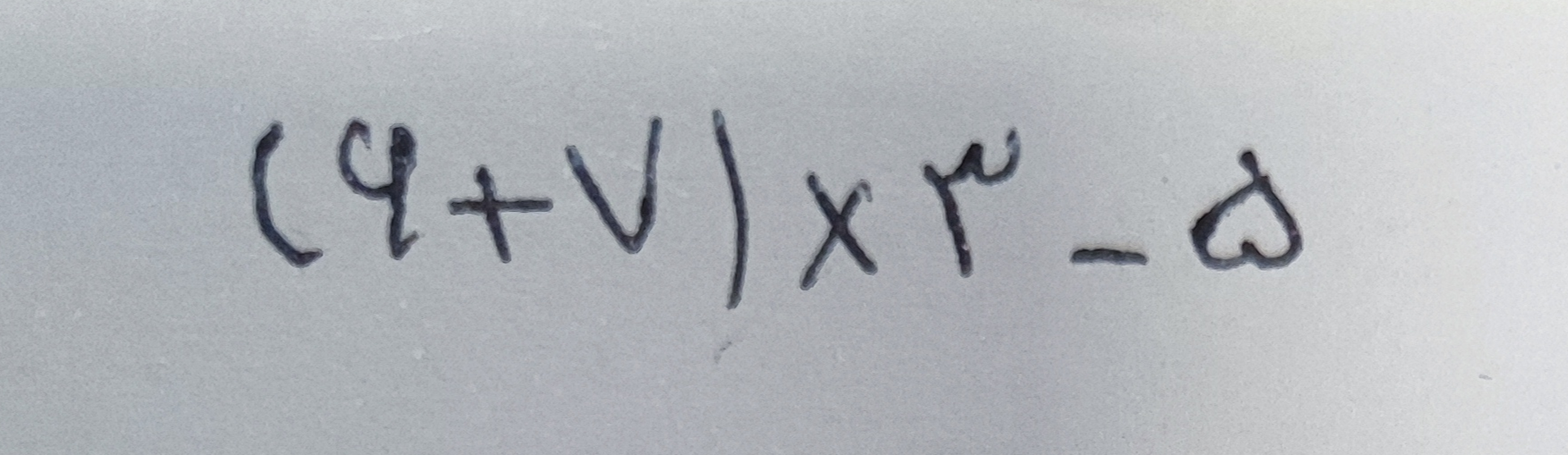character: (1183, 119, 1314, 281), (908, 111, 1028, 281), (215, 92, 324, 275), (551, 95, 671, 257), (696, 94, 765, 311), (788, 154, 884, 307), (329, 111, 423, 263), (438, 159, 557, 267), (1049, 223, 1155, 273)
